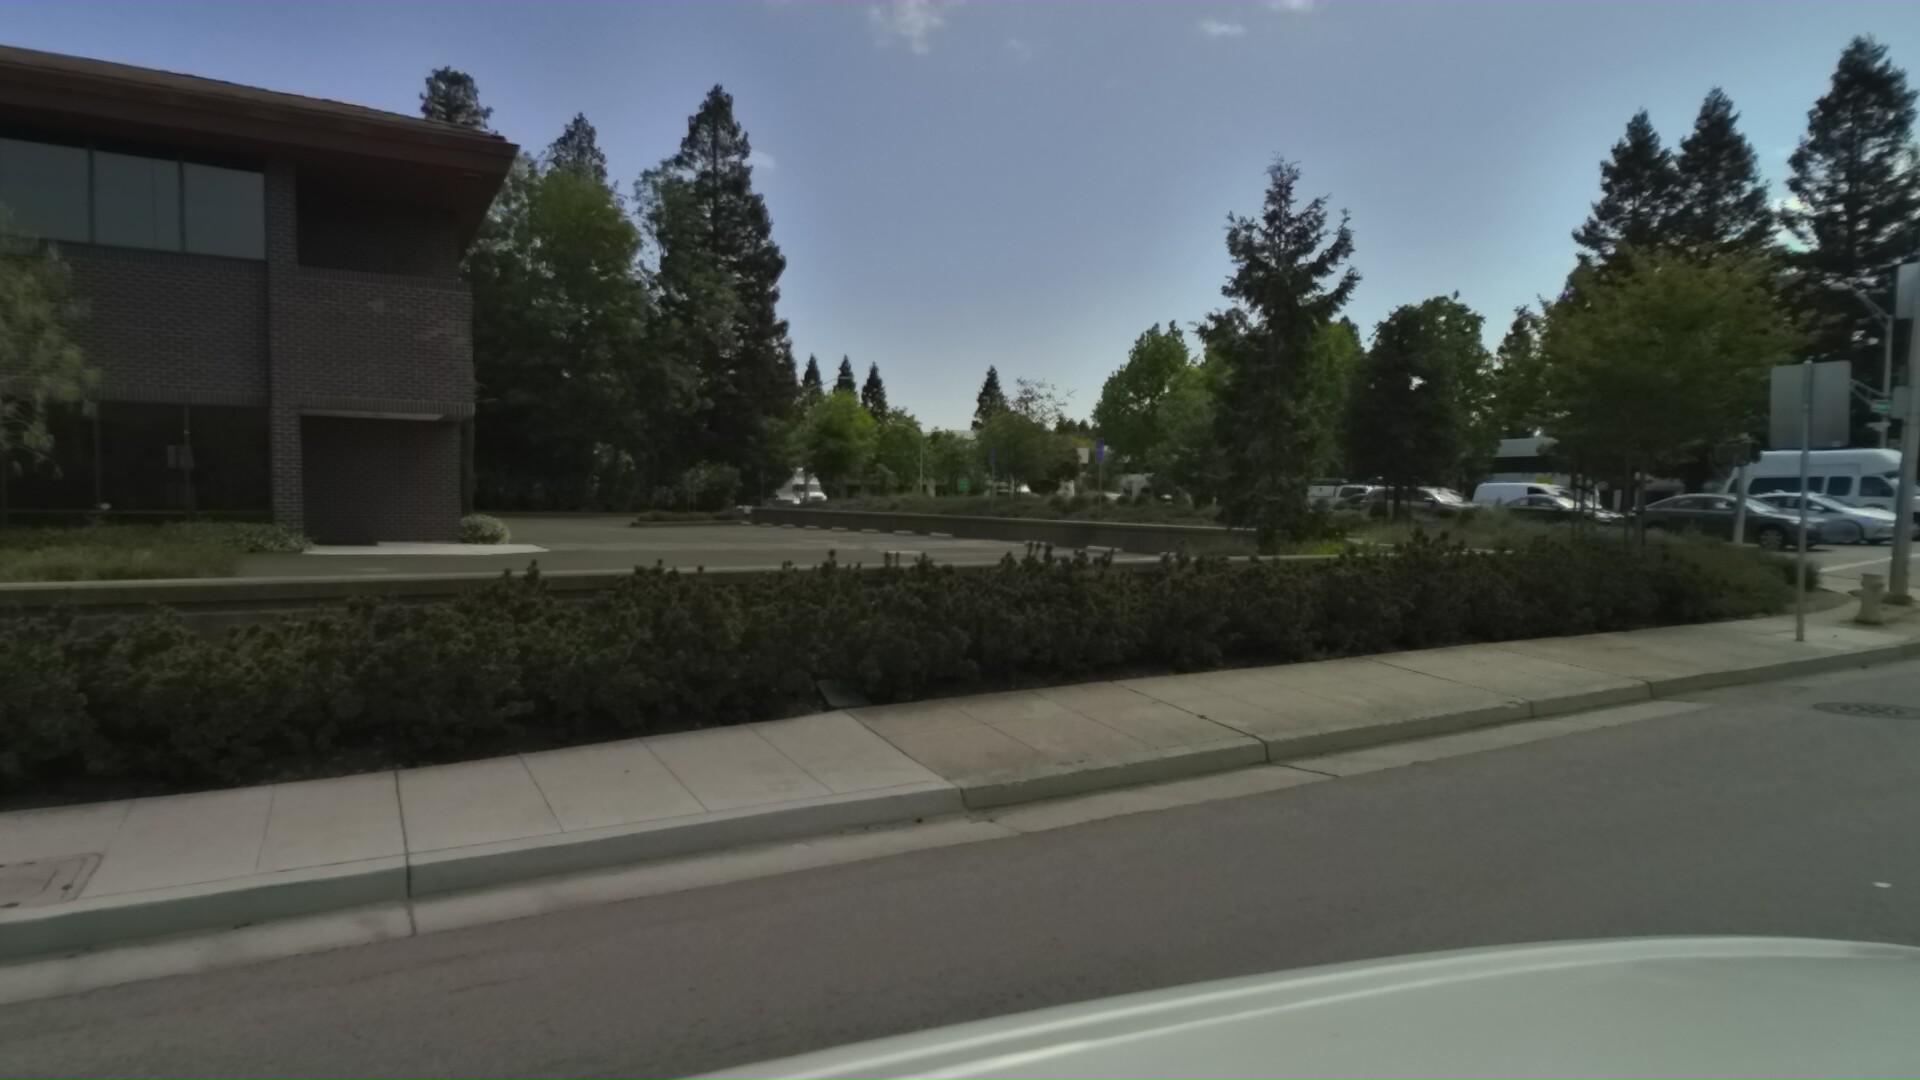car: (1716, 440, 1920, 537), (1621, 491, 1861, 556), (1712, 479, 1920, 541), (1364, 483, 1518, 539), (1466, 472, 1619, 527), (1495, 492, 1643, 541)
